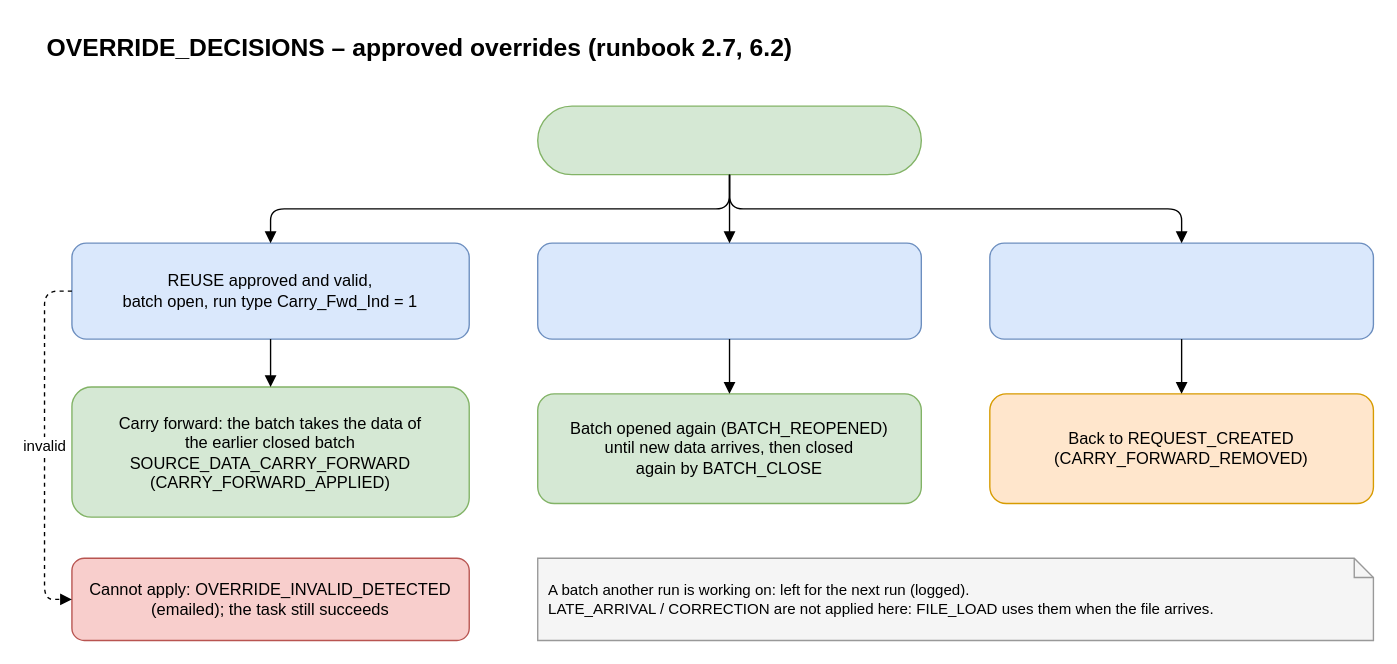
This 1397x664 diagram has some shape labels left out. Here are the shapes that lost their labels. From the top down, the centre of each, then its label:
At (x=728, y=140): "OVERRIDE_DECISIONS run (scope)".
At (x=728, y=290): "REOPEN approved for a closed batch".
At (x=1180, y=290): "Carried-forward batch whose REUSE expired or was rejected".
